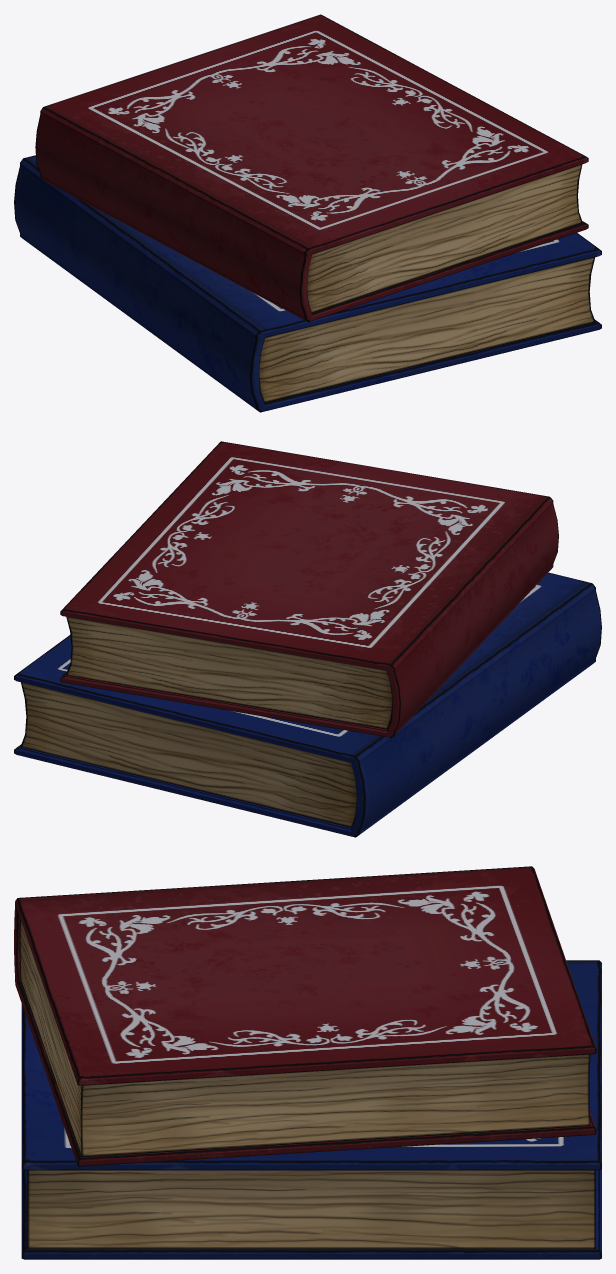
The model's file is MOD_BooksClosed-v2.fbx.
The picture shows the model from 3 angles, top to bottom: view 1: azimuth 30°, elevation 25°; view 2: azimuth 150°, elevation 25°; view 3: azimuth 270°, elevation 25°; orthographic projection. The views are drawn at different scales.
Visible parts, largest first — view 1: pCube2, pCube1; view 2: pCube2, pCube1; view 3: pCube2, pCube1.
Boxes of the visible parts, x1=… form: pCube2: x1=35, y1=14, x2=588, y2=322; pCube1: x1=14, y1=155, x2=601, y2=412; pCube2: x1=60, y1=441, x2=558, y2=737; pCube1: x1=14, y1=572, x2=601, y2=837; pCube2: x1=14, y1=866, x2=596, y2=1166; pCube1: x1=21, y1=960, x2=601, y2=1259.
Bounding box in the file's own units: 7.95 × 3.2 × 9.08.
2 materials, 2 textured.
